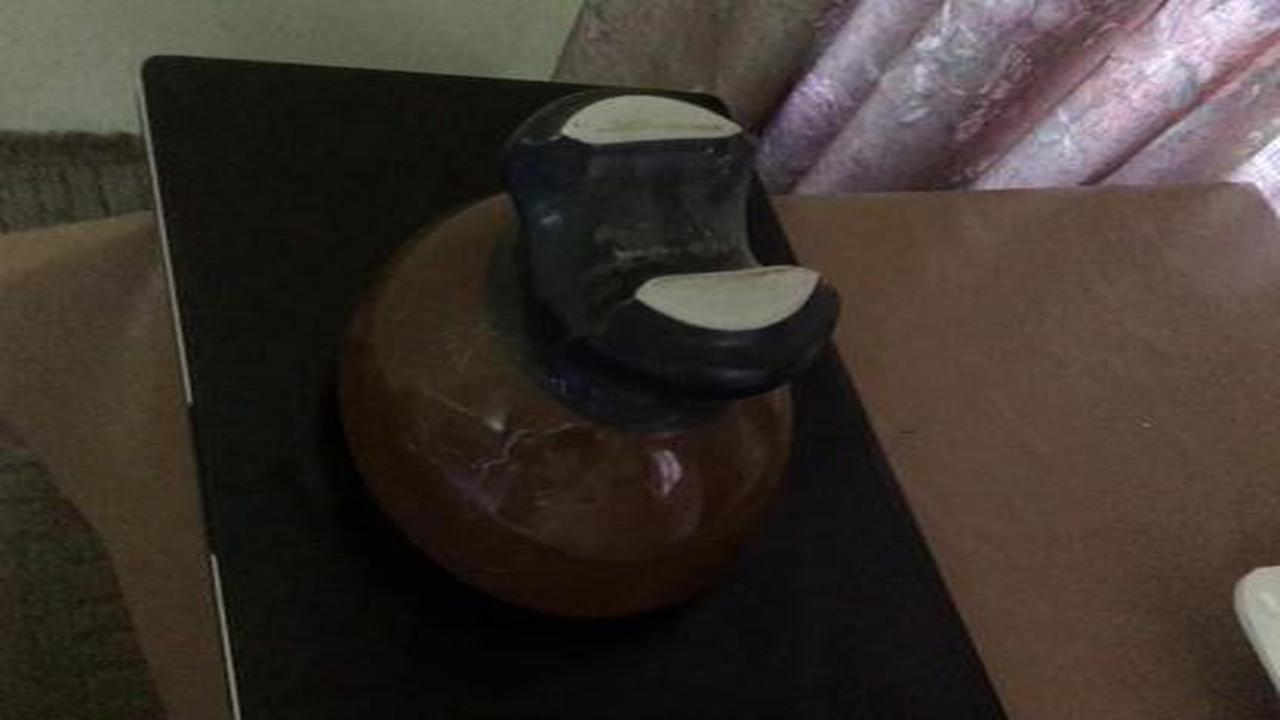insulator_pin: (320, 73, 871, 639)
